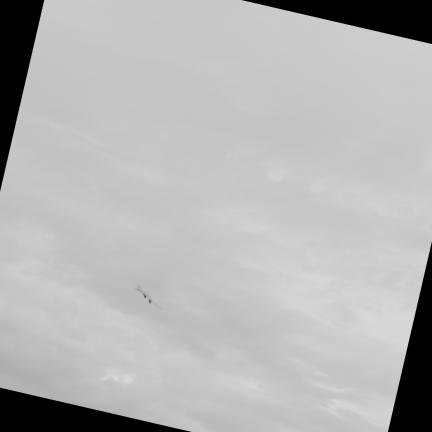Shahed: (135, 285, 162, 309)
